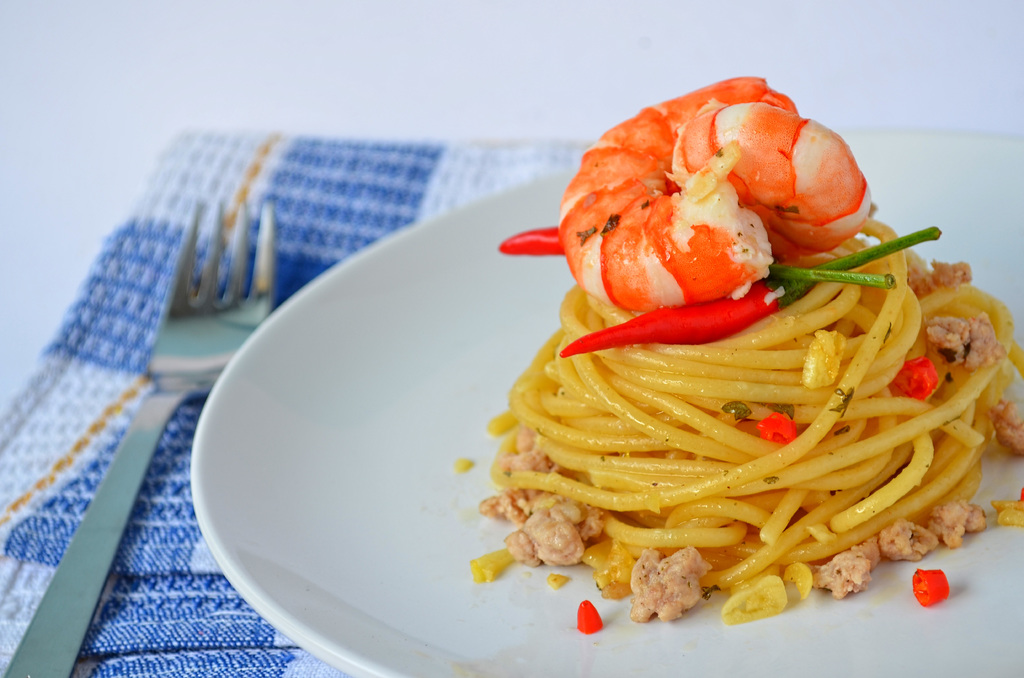pasta: (495, 208, 1023, 626)
